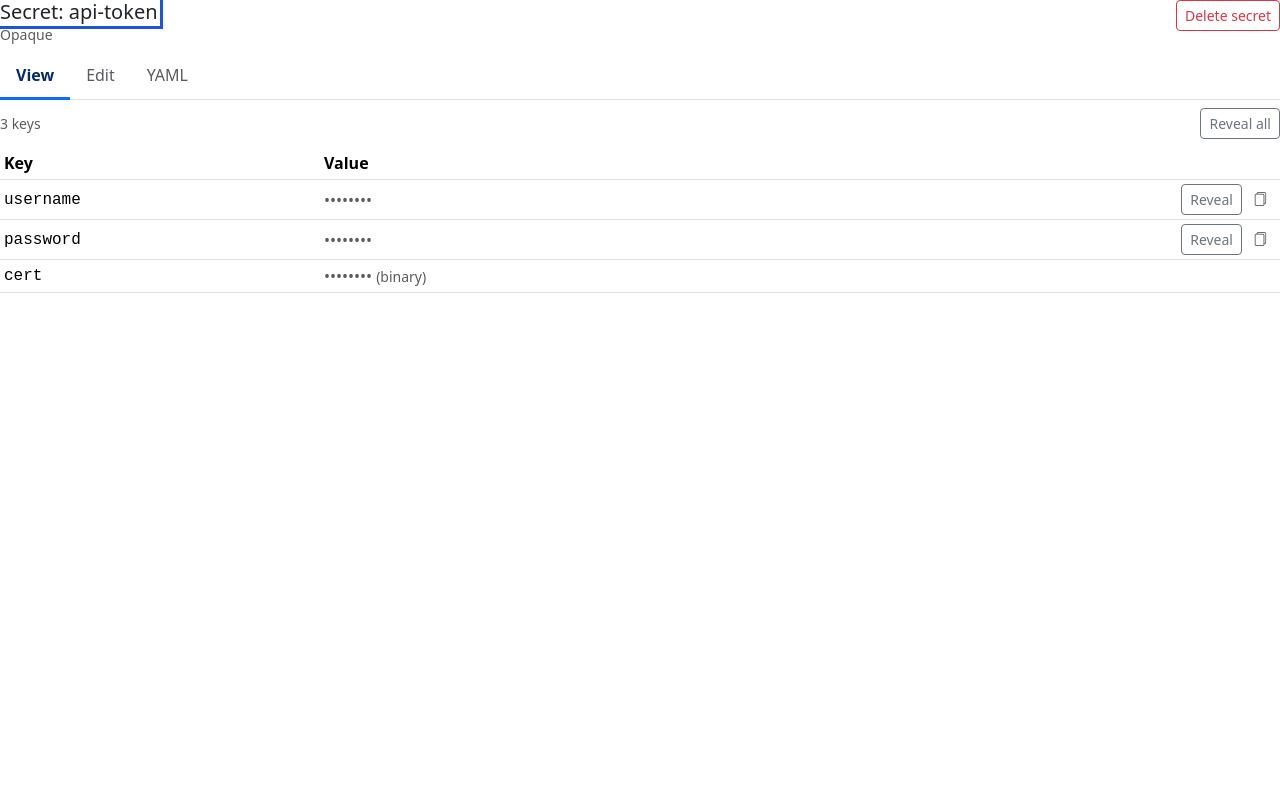
Test case: SecretDetail — edit mode › seeds the draft from the entries and saves a change
Click the tab "edit" at (100, 76), box [70, 53, 131, 100]
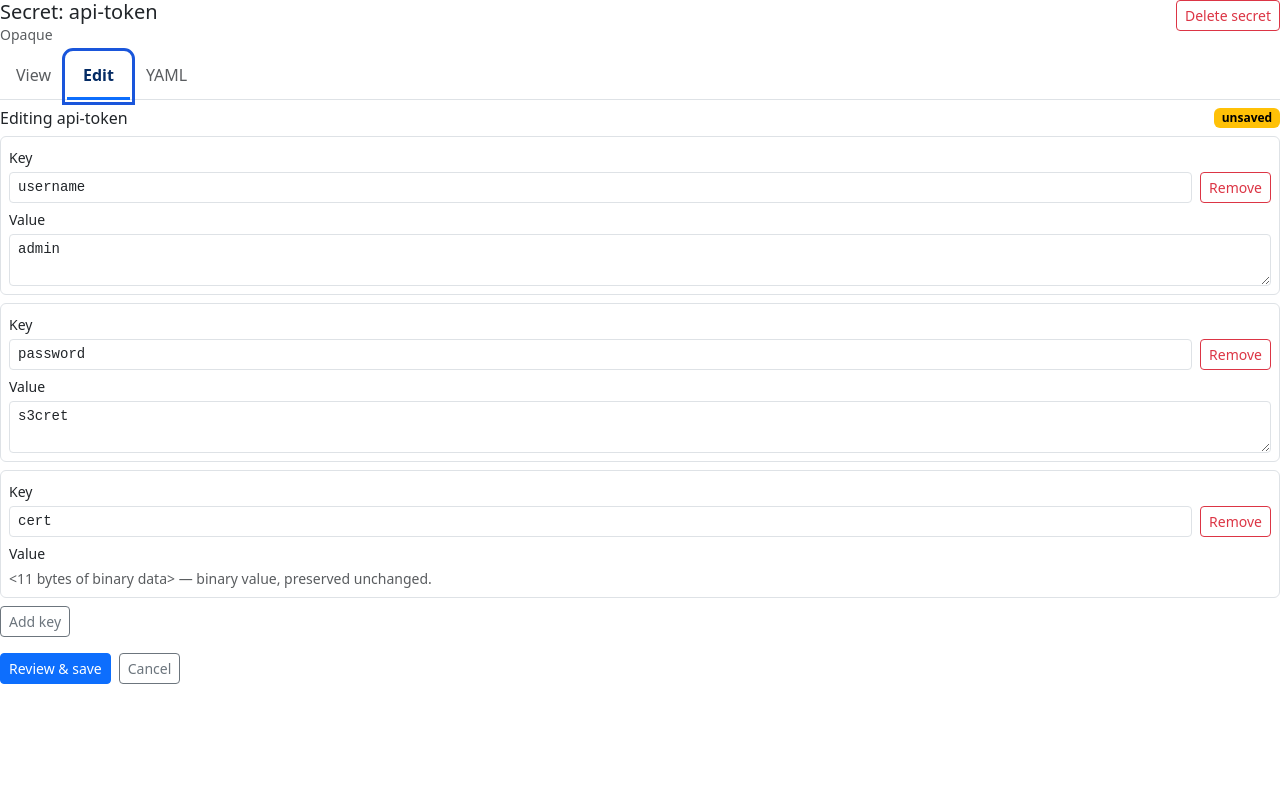
Check: the number of text boxes is 2
Replace the text in the 2nd text box labelled "Value" with "new-pass" at (640, 427), box [9, 401, 1271, 453]
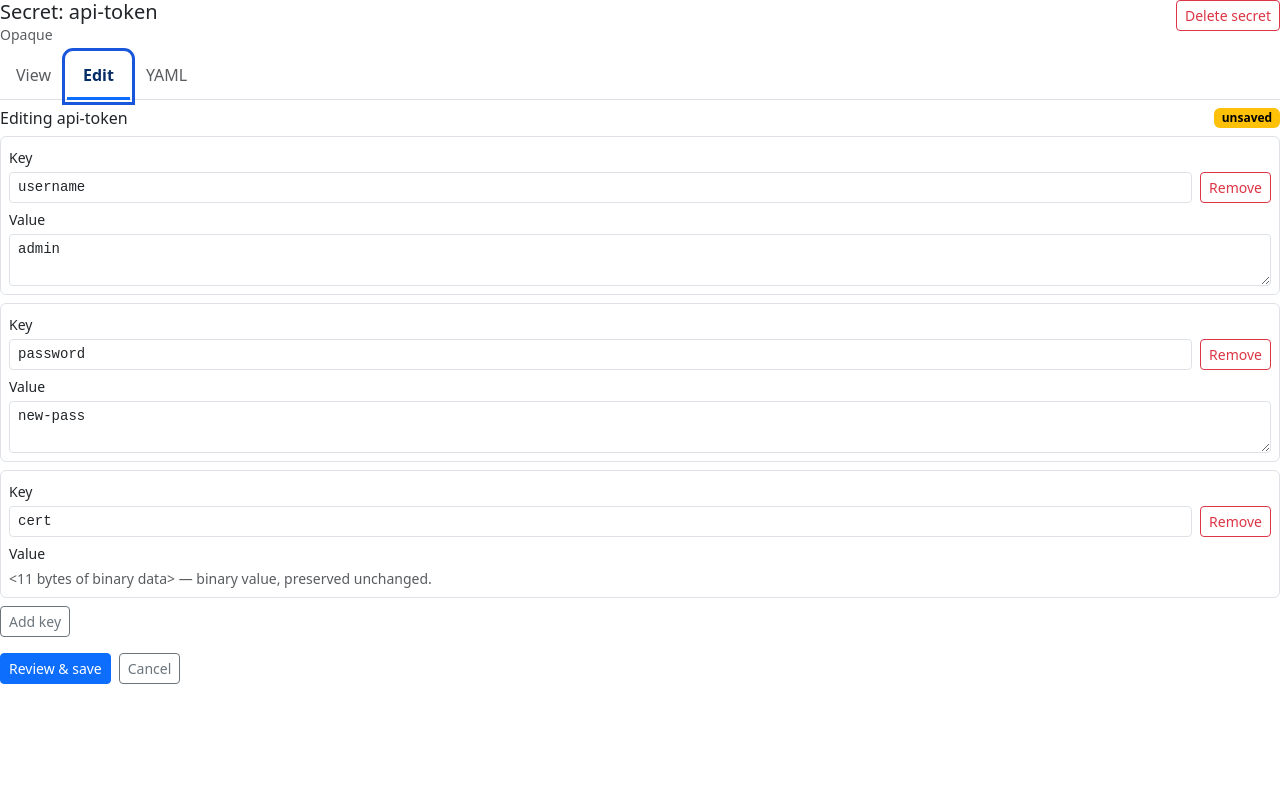
Click the button "Review & save" at (55, 669), box [0, 653, 111, 684]
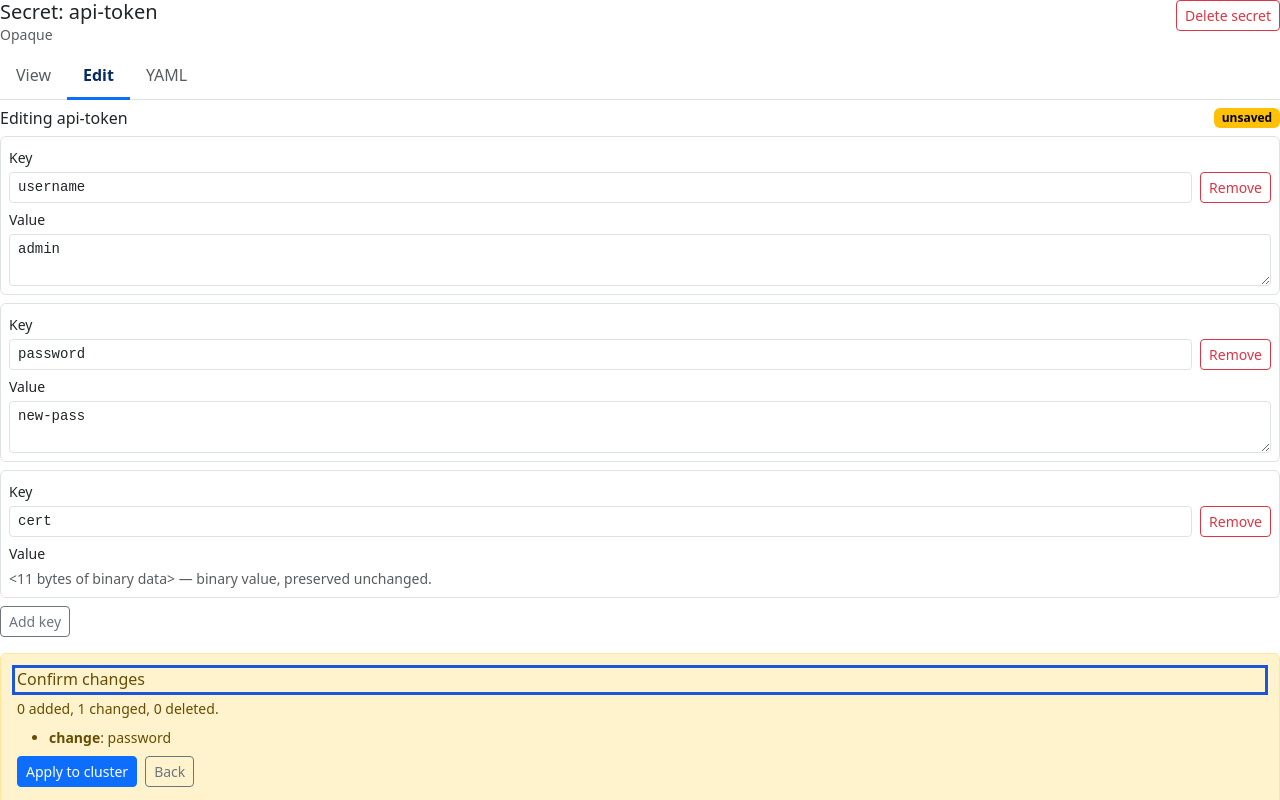
Check: the dialog shows "1 changed", box [17, 699, 219, 718]
Click the button "Apply to cluster" at (77, 771), box [17, 756, 137, 787]
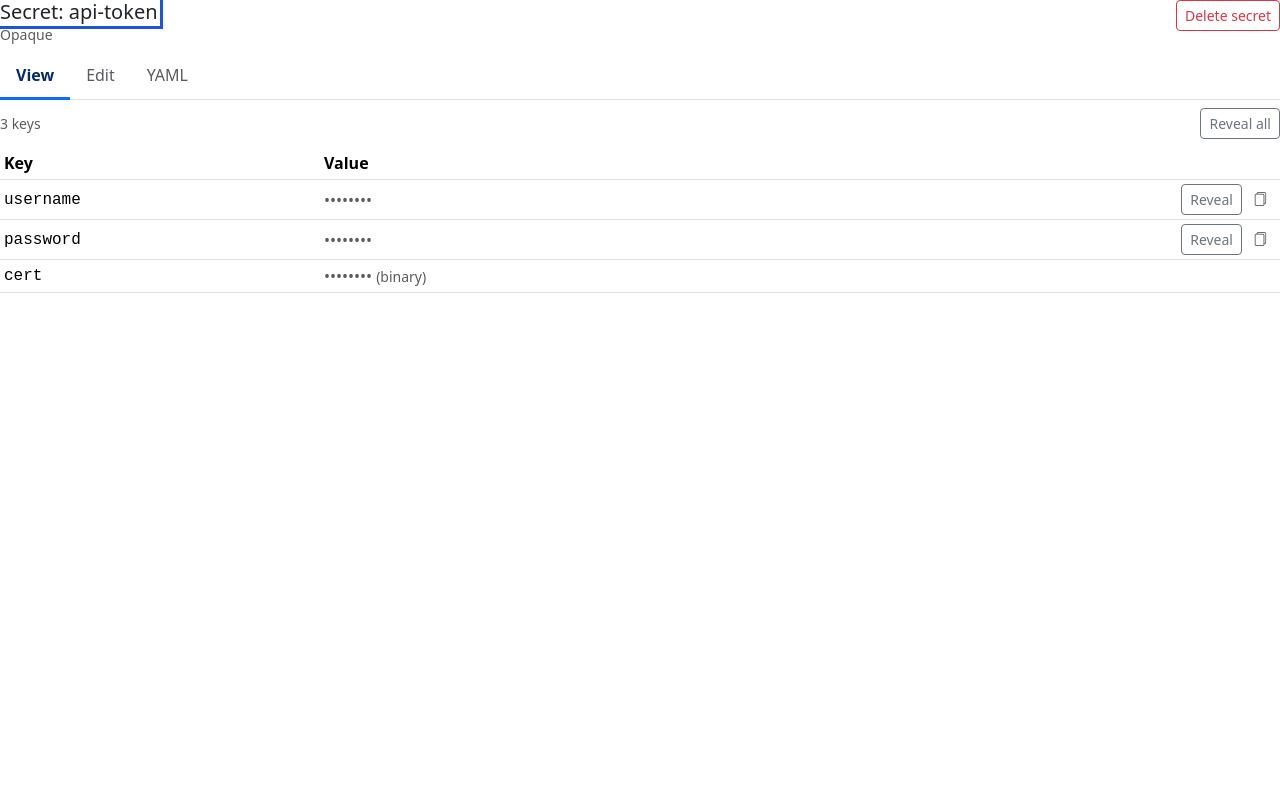
Check: the panel with id "secret-submode-panel-view" is shown, box [0, 108, 1279, 292]
